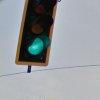Traffic light: (11, 0, 69, 76)
